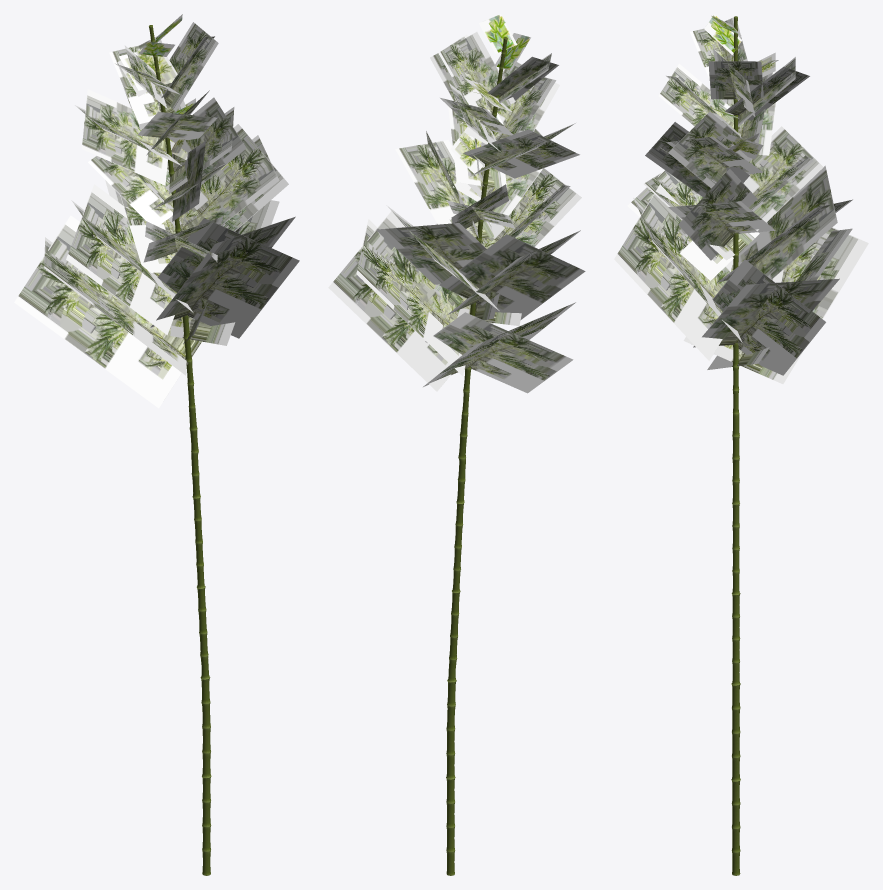
Rendered from bamboo3.fbx.
3 views of the same model, side by side, from view 1: azimuth 30°, elevation 25°; view 2: azimuth 150°, elevation 25°; view 3: azimuth 270°, elevation 25° (orthographic). The views are drawn at different scales.
Parts seen in each view (by area): view 1: pPlane198; view 2: pPlane198; view 3: pPlane198.
Boxes of the visible parts, x1=… form: pPlane198: x1=14, y1=14, x2=299, y2=875; pPlane198: x1=328, y1=14, x2=585, y2=875; pPlane198: x1=614, y1=14, x2=868, y2=875.
Size of the model in its own units: 303 by 1067 by 293.
Materials: 2 (2 with a texture image).
